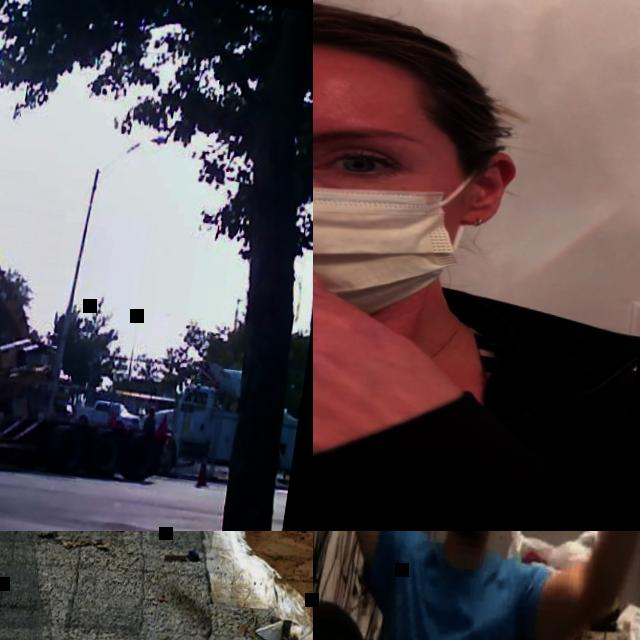Mask: (313, 116, 481, 335)
NO-Hardhat: (313, 0, 494, 127), (149, 408, 156, 415)
NO-Safety Vest: (313, 282, 637, 531), (377, 550, 535, 640)
Person: (313, 0, 640, 531), (313, 531, 640, 640), (143, 407, 159, 437)
Safety Cone: (197, 458, 211, 489), (159, 415, 170, 439), (110, 408, 121, 431)
vehicle: (146, 357, 306, 488), (0, 245, 93, 433), (73, 395, 144, 436)
